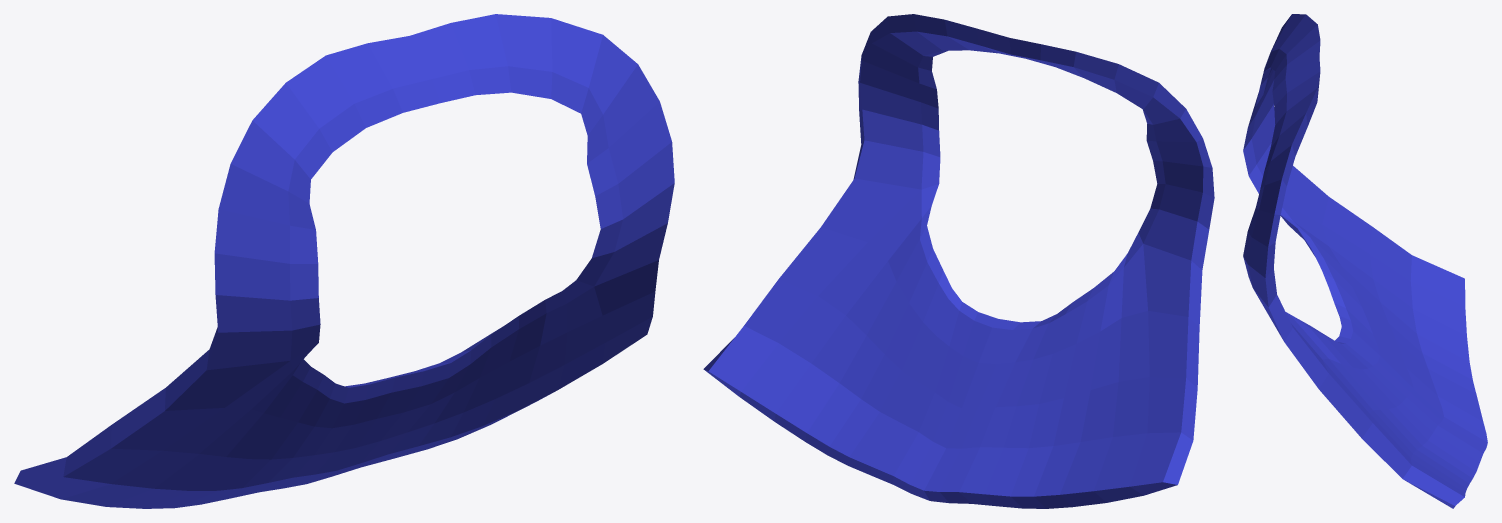
File: NEW_MM_Shirt.obj
3 renders of one model, left to right at view 1: azimuth 30°, elevation 25°; view 2: azimuth 150°, elevation 25°; view 3: azimuth 270°, elevation 25°, orthographic. The views are drawn at different scales.
Visible parts, largest first — view 1: Shirt; view 2: Shirt; view 3: Shirt.
Boxes of the visible parts, x1,y1,x2,y2 form: Shirt: (14, 14, 674, 508); Shirt: (703, 14, 1214, 508); Shirt: (1243, 14, 1487, 508).
Size of the model in its own units: 33.15 by 27.16 by 15.02.
